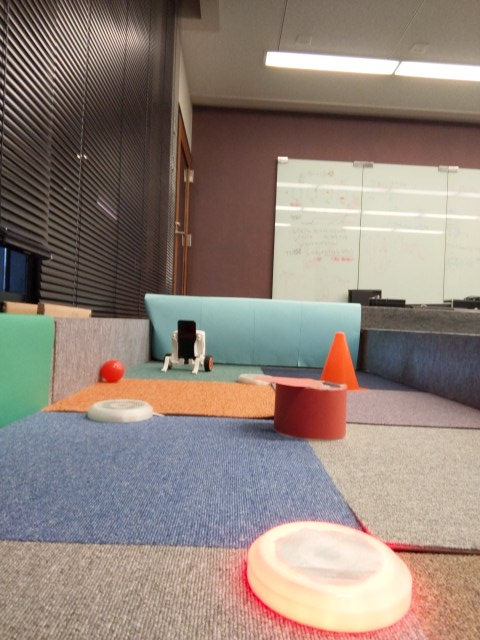f: (158, 316, 213, 378)
o: (82, 397, 157, 427), (235, 372, 276, 387)
r: (240, 518, 415, 636)
